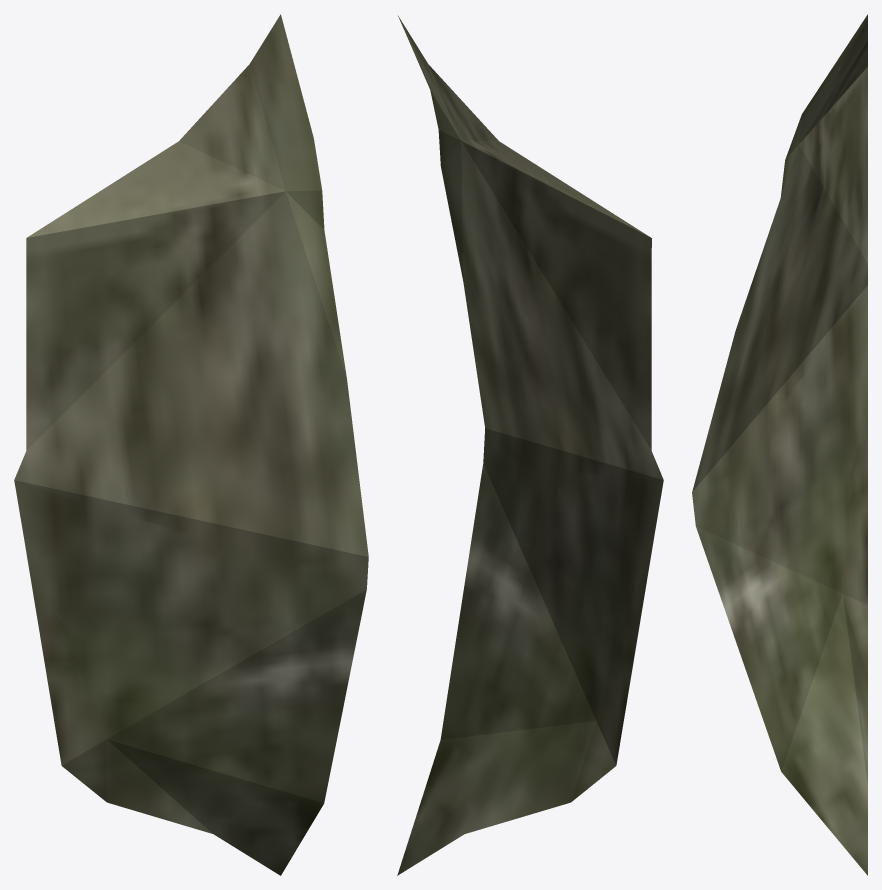
The picture shows the model from 3 angles, left to right: view 1: azimuth 30°, elevation 25°; view 2: azimuth 150°, elevation 25°; view 3: azimuth 270°, elevation 25°; orthographic projection.
Size of the model in its own units: 0.3467 by 1.07 by 0.1981.
Materials: 1 (1 with a texture image).
